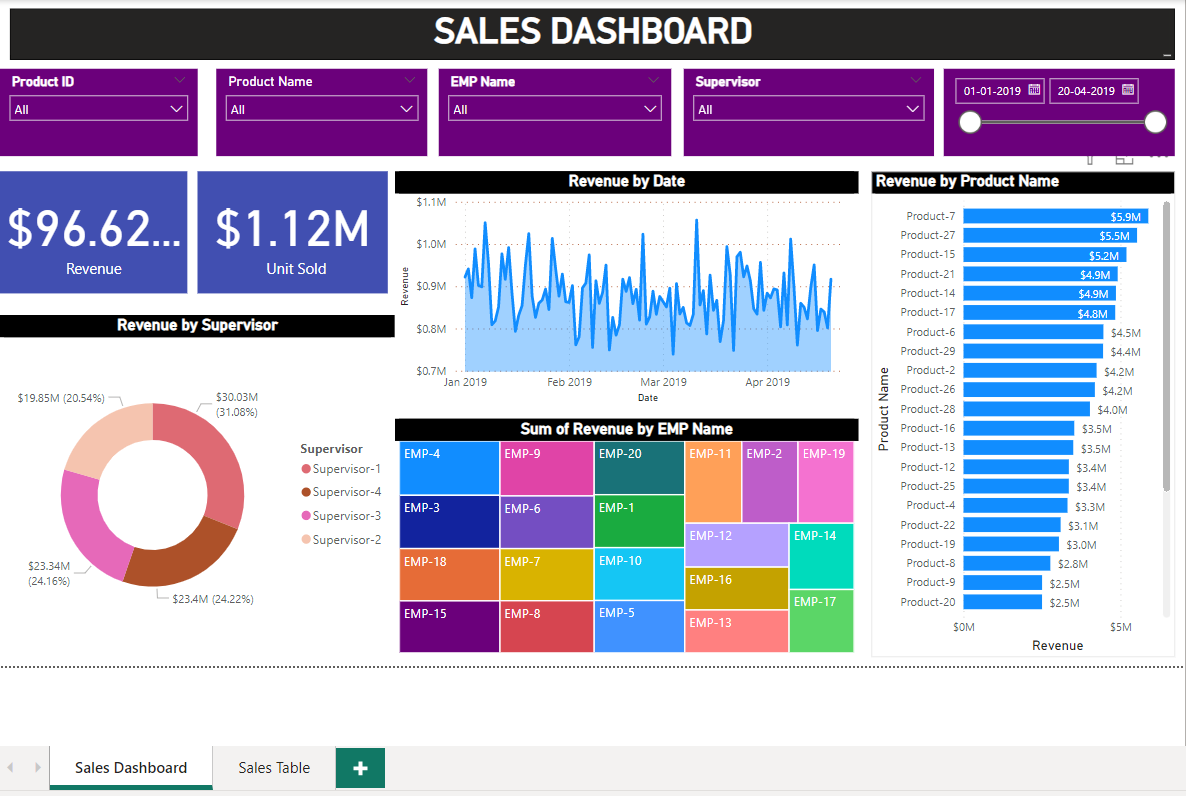

The dashboard page shown, as its layout file describes it:
{"tool":"powerbi","page":{"name":"Sales Dashboard","canvas":[1280,720],"ordinal":0},"visuals":[{"type":"card","fields":{"Values":["Sum(Sales Data.Revenue)"]},"box":[0,185,202.6,132.3],"z":0},{"type":"card","fields":{"Values":["Sum(Sales Data.Unit Sold)"]},"box":[213.4,185,205.3,132.3],"z":1},{"type":"areaChart","fields":{"Y":["Sum(Sales Data.Revenue)"],"Category":["Sales Data.Date"]},"box":[426.8,185,501,255.2],"z":2},{"type":"barChart","fields":{"Y":["Sum(Sales Data.Revenue)"],"Category":["Product Master.Product Name"]},"box":[941.3,185,328.2,525.3],"z":3},{"type":"treemap","fields":{"Group":["Emp Master.EMP Name"],"Values":["Sum(Sales Data.Revenue)"]},"box":[426.8,452.4,501,257.9],"z":4},{"type":"donutChart","title":"Revenue by Supervisor","fields":{"Y":["Sum(Sales Data.Revenue)"],"Category":["Emp Master.Supervisor"]},"box":[0,340.3,426.8,370],"z":5},{"type":"slicer","fields":{"Values":["Product Master.Product ID"]},"box":[0,74.3,213.4,94.5],"z":6},{"type":"slicer","fields":{"Values":["Product Master.Product Name"]},"box":[233.6,74.3,228.2,94.5],"z":7},{"type":"slicer","fields":{"Values":["Emp Master.EMP Name"]},"box":[474,74.3,251.2,94.5],"z":8},{"type":"slicer","fields":{"Values":["Sales Data.Date"]},"box":[1019.6,74.3,249.8,94.5],"z":9},{"type":"slicer","fields":{"Values":["Emp Master.Supervisor"]},"box":[738.7,74.3,270.1,94.5],"z":10},{"type":"textbox","title":"SALES DASHBOARD","box":[10.8,9.5,1258.7,55.4],"z":11}]}

Visuals, with their boxes on the page's 1280x720 design canvas (x1, y1, x2, y2). These are canvas units, not pixel positions in the 1186x796 screenshot, which may show the page scaled, cropped or inside an application window:
card - Sum(Sales Data.Revenue): x1=0, y1=185, x2=203, y2=317
card - Sum(Sales Data.Unit Sold): x1=213, y1=185, x2=419, y2=317
areaChart - Sum(Sales Data.Revenue) x Sales Data.Date: x1=427, y1=185, x2=928, y2=440
barChart - Sum(Sales Data.Revenue) x Product Master.Product Name: x1=941, y1=185, x2=1270, y2=710
treemap - Emp Master.EMP Name x Sum(Sales Data.Revenue): x1=427, y1=452, x2=928, y2=710
"Revenue by Supervisor" donutChart: x1=0, y1=340, x2=427, y2=710
slicer - Product Master.Product ID: x1=0, y1=74, x2=213, y2=169
slicer - Product Master.Product Name: x1=234, y1=74, x2=462, y2=169
slicer - Emp Master.EMP Name: x1=474, y1=74, x2=725, y2=169
slicer - Sales Data.Date: x1=1020, y1=74, x2=1269, y2=169
slicer - Emp Master.Supervisor: x1=739, y1=74, x2=1009, y2=169
"SALES DASHBOARD" textbox: x1=11, y1=10, x2=1270, y2=65
